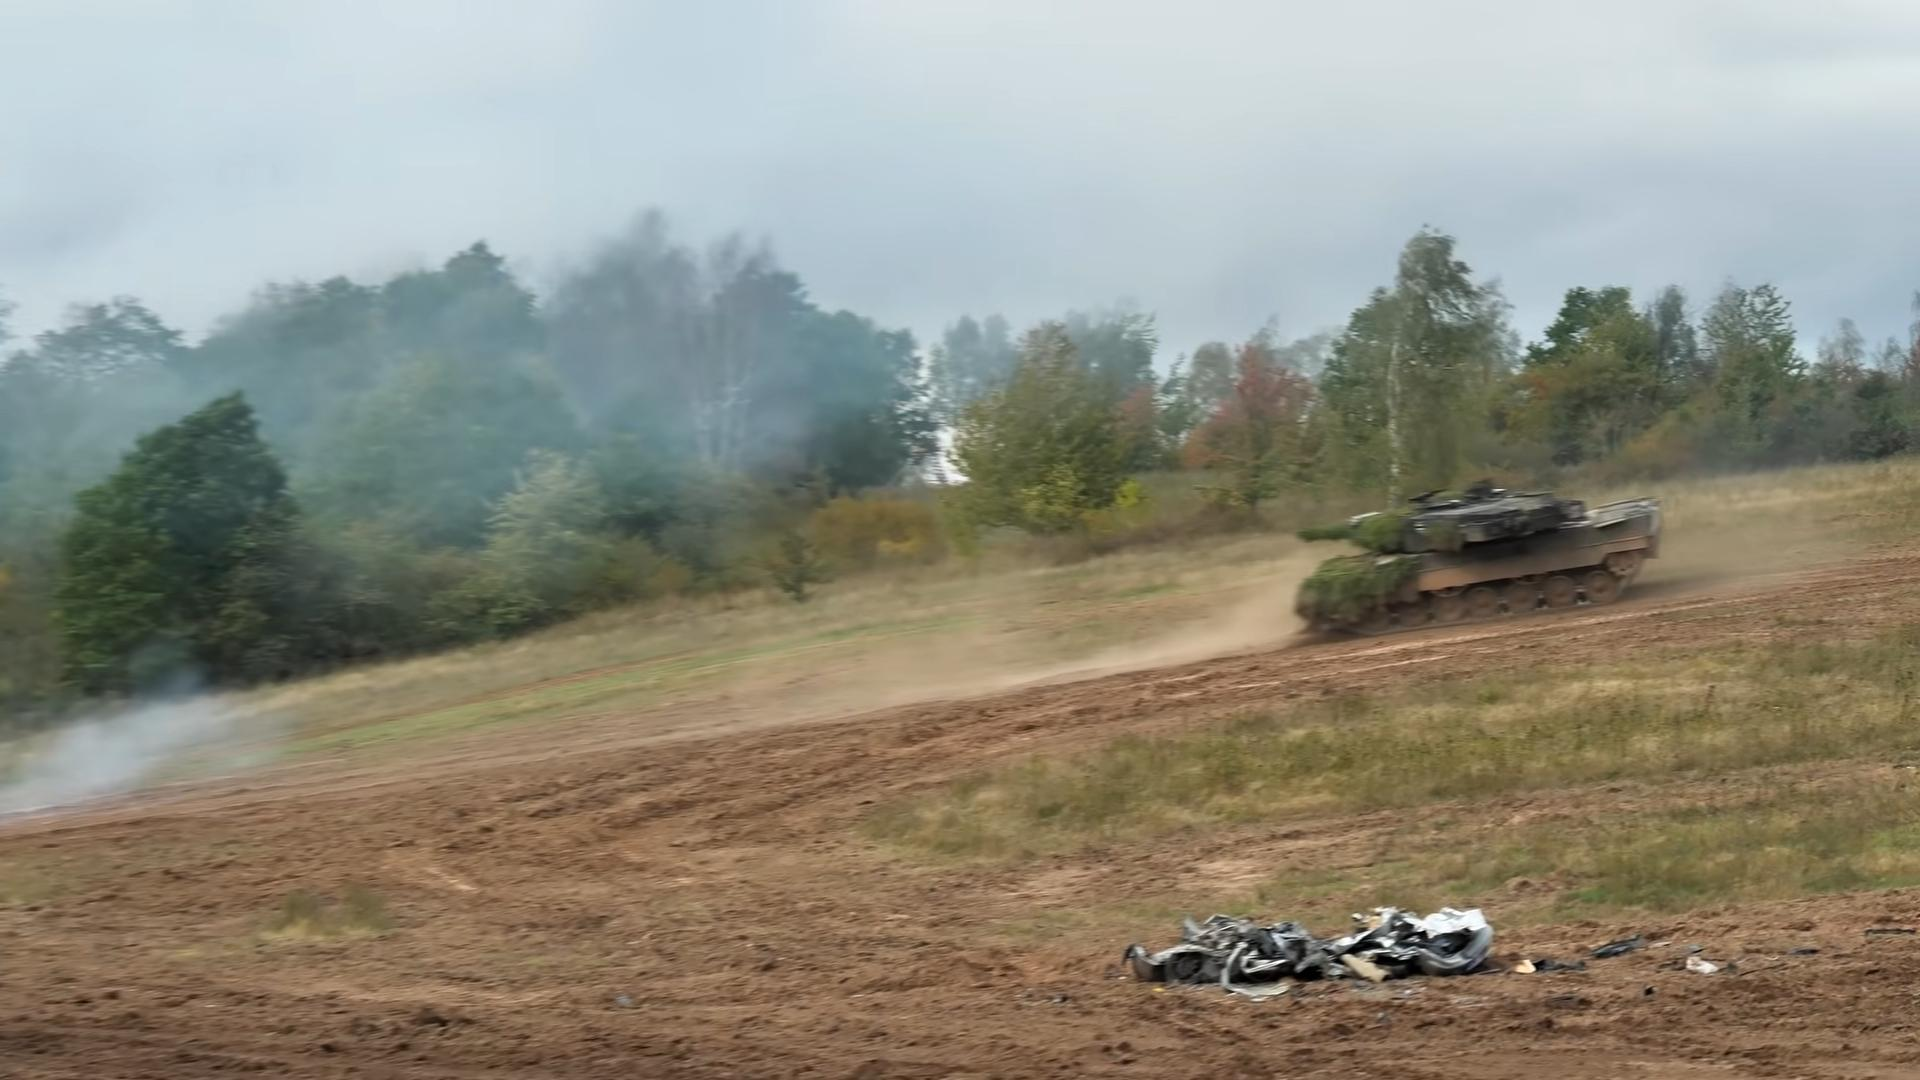tank: (1298, 489, 1662, 634)
